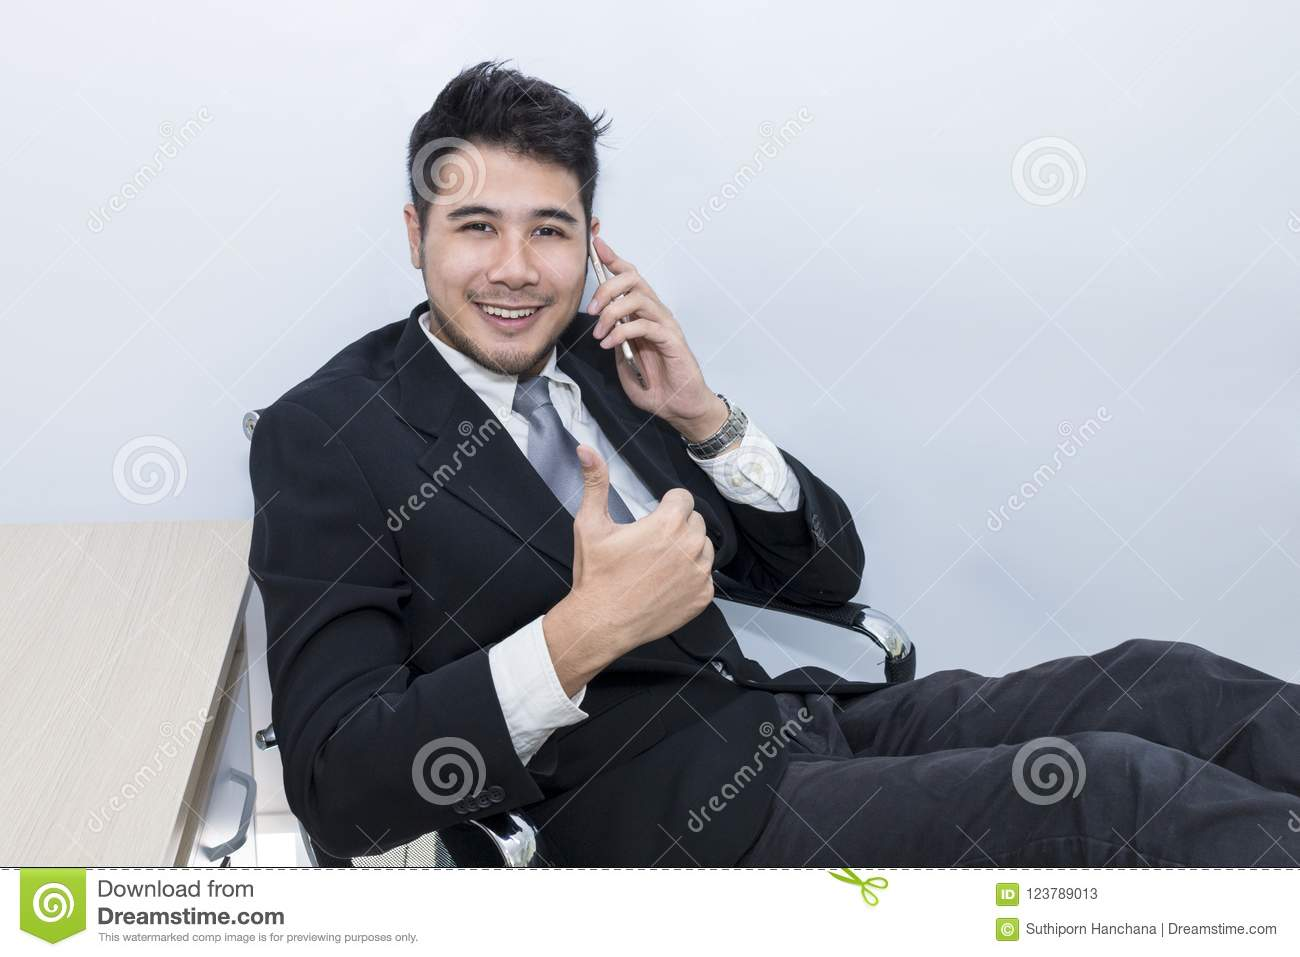phone: (585, 229, 655, 395)
talk: (428, 195, 708, 423)
